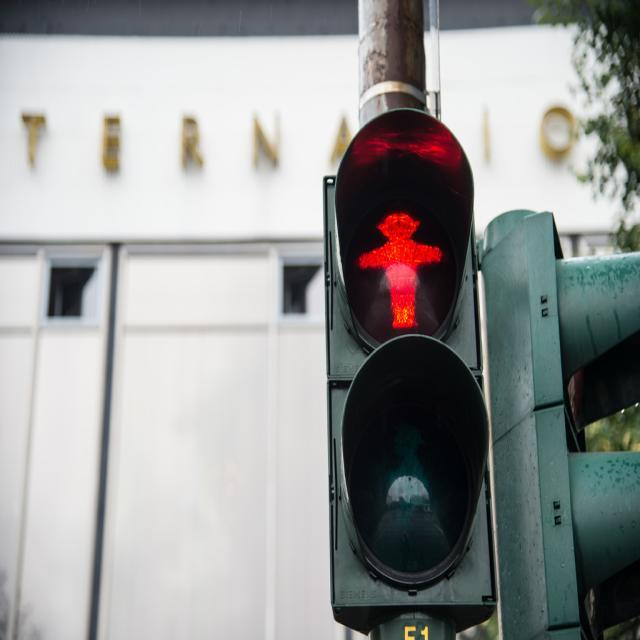off traffic light: (485, 208, 640, 640)
traffic light: (330, 134, 486, 612)
